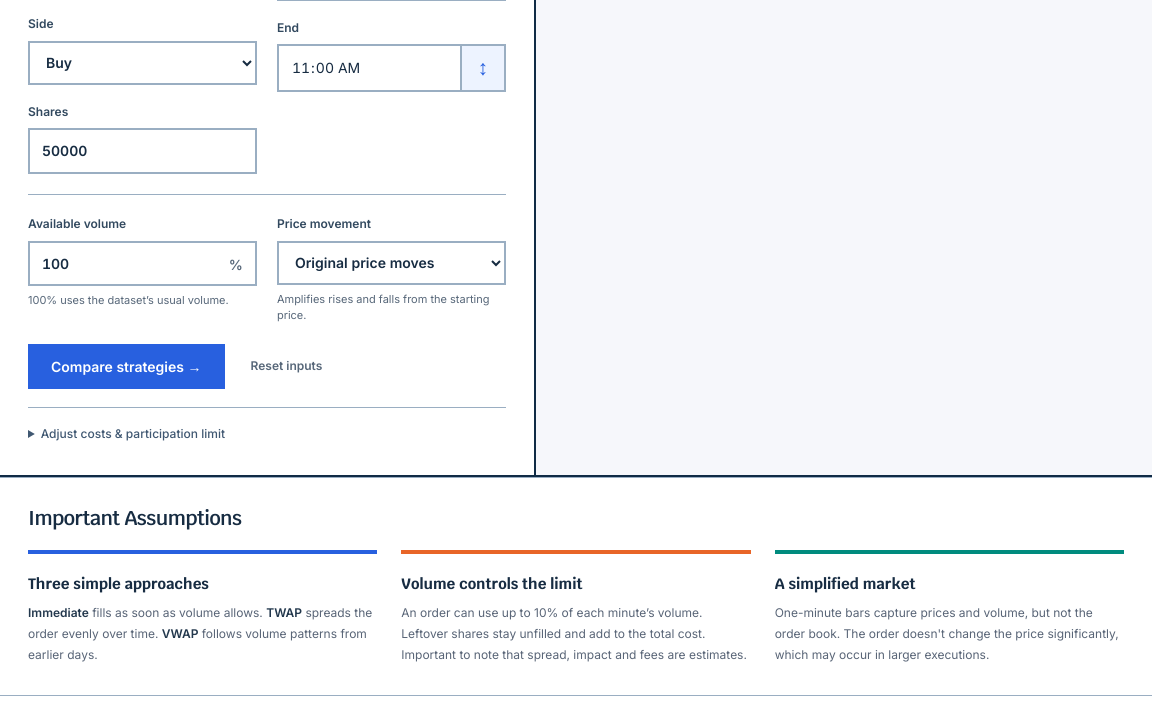
Test: retains submitted results when controls change and exports reconciled evidence
(page scrolled)
Step 1. Click the button "Compare strategies →" → (126,366), box [28,344,224,389]
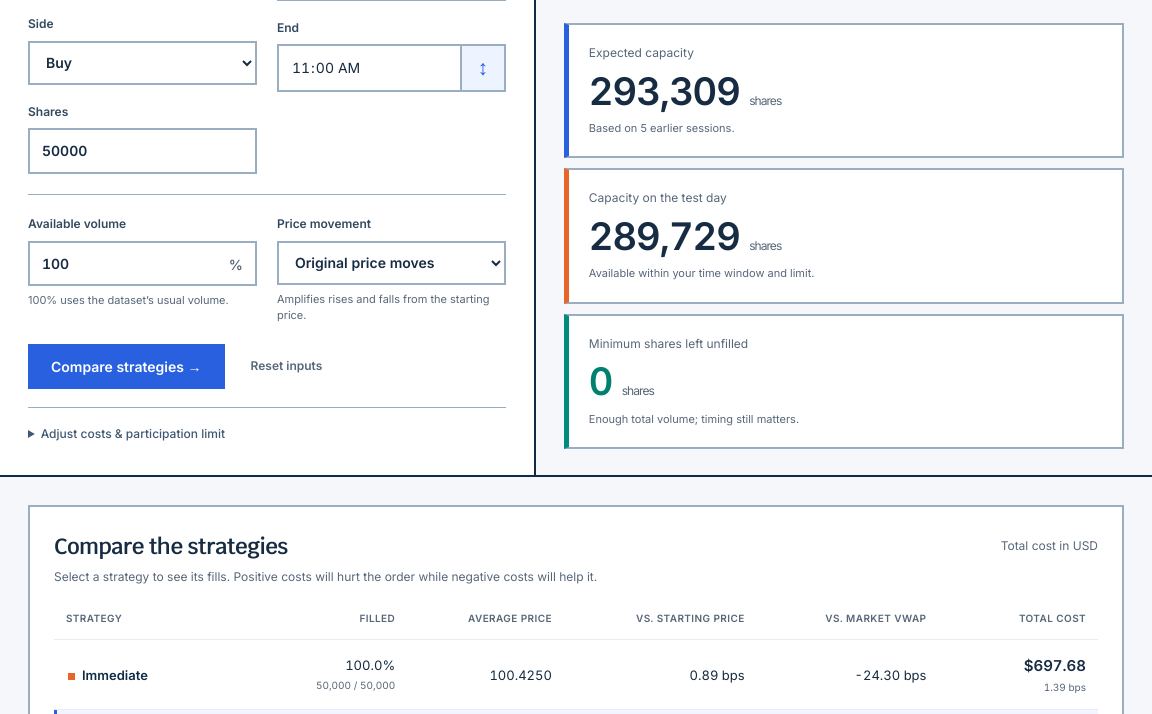
Step 2. Select "Sell" in the dropdown labelled "Side" → (142,63), box [28,41,257,85]
(page scrolled)
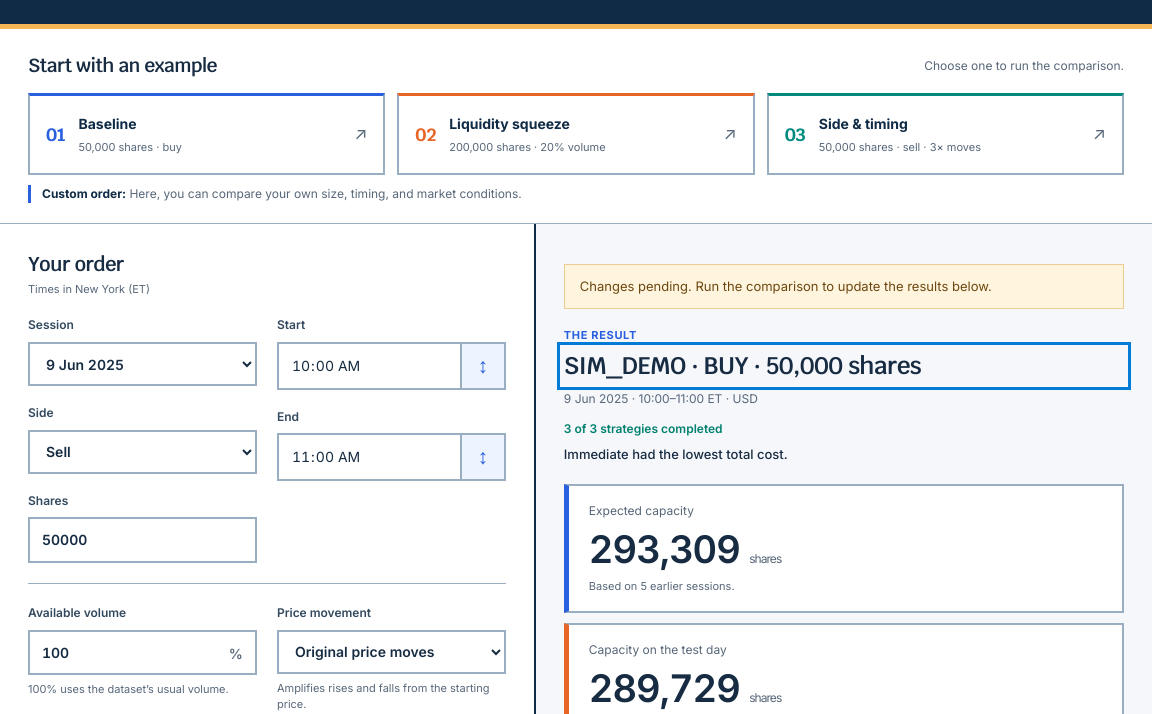
Expected: the heading "SIM_DEMO · BUY · 50,000 shares" is shown, [564,350,921,381]
Expected: the text "Changes pending. Run the comparison to update the results below." is shown, [564,264,1124,308]
